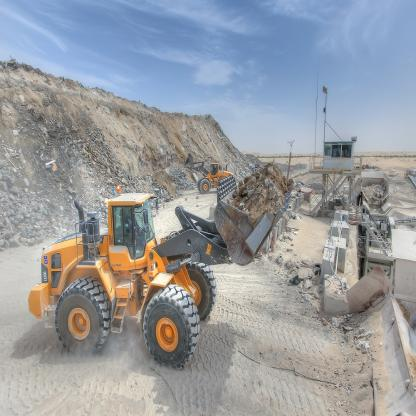bull_dozer/loader/grader: (32, 163, 294, 363), (176, 144, 234, 192)
